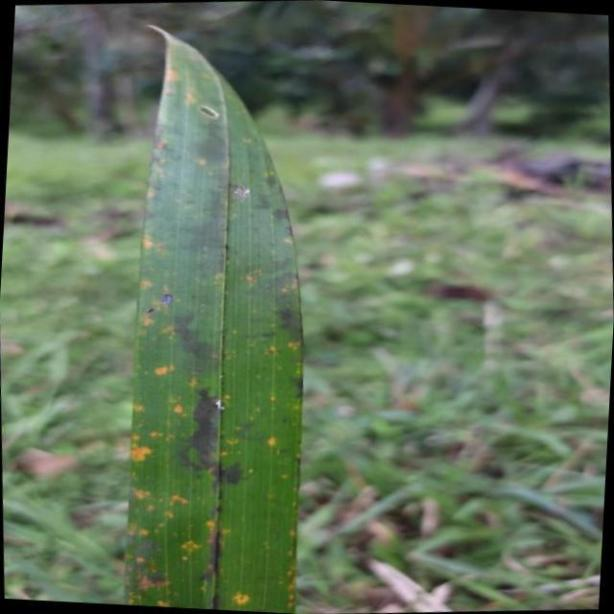Healthy: (126, 14, 306, 614)
